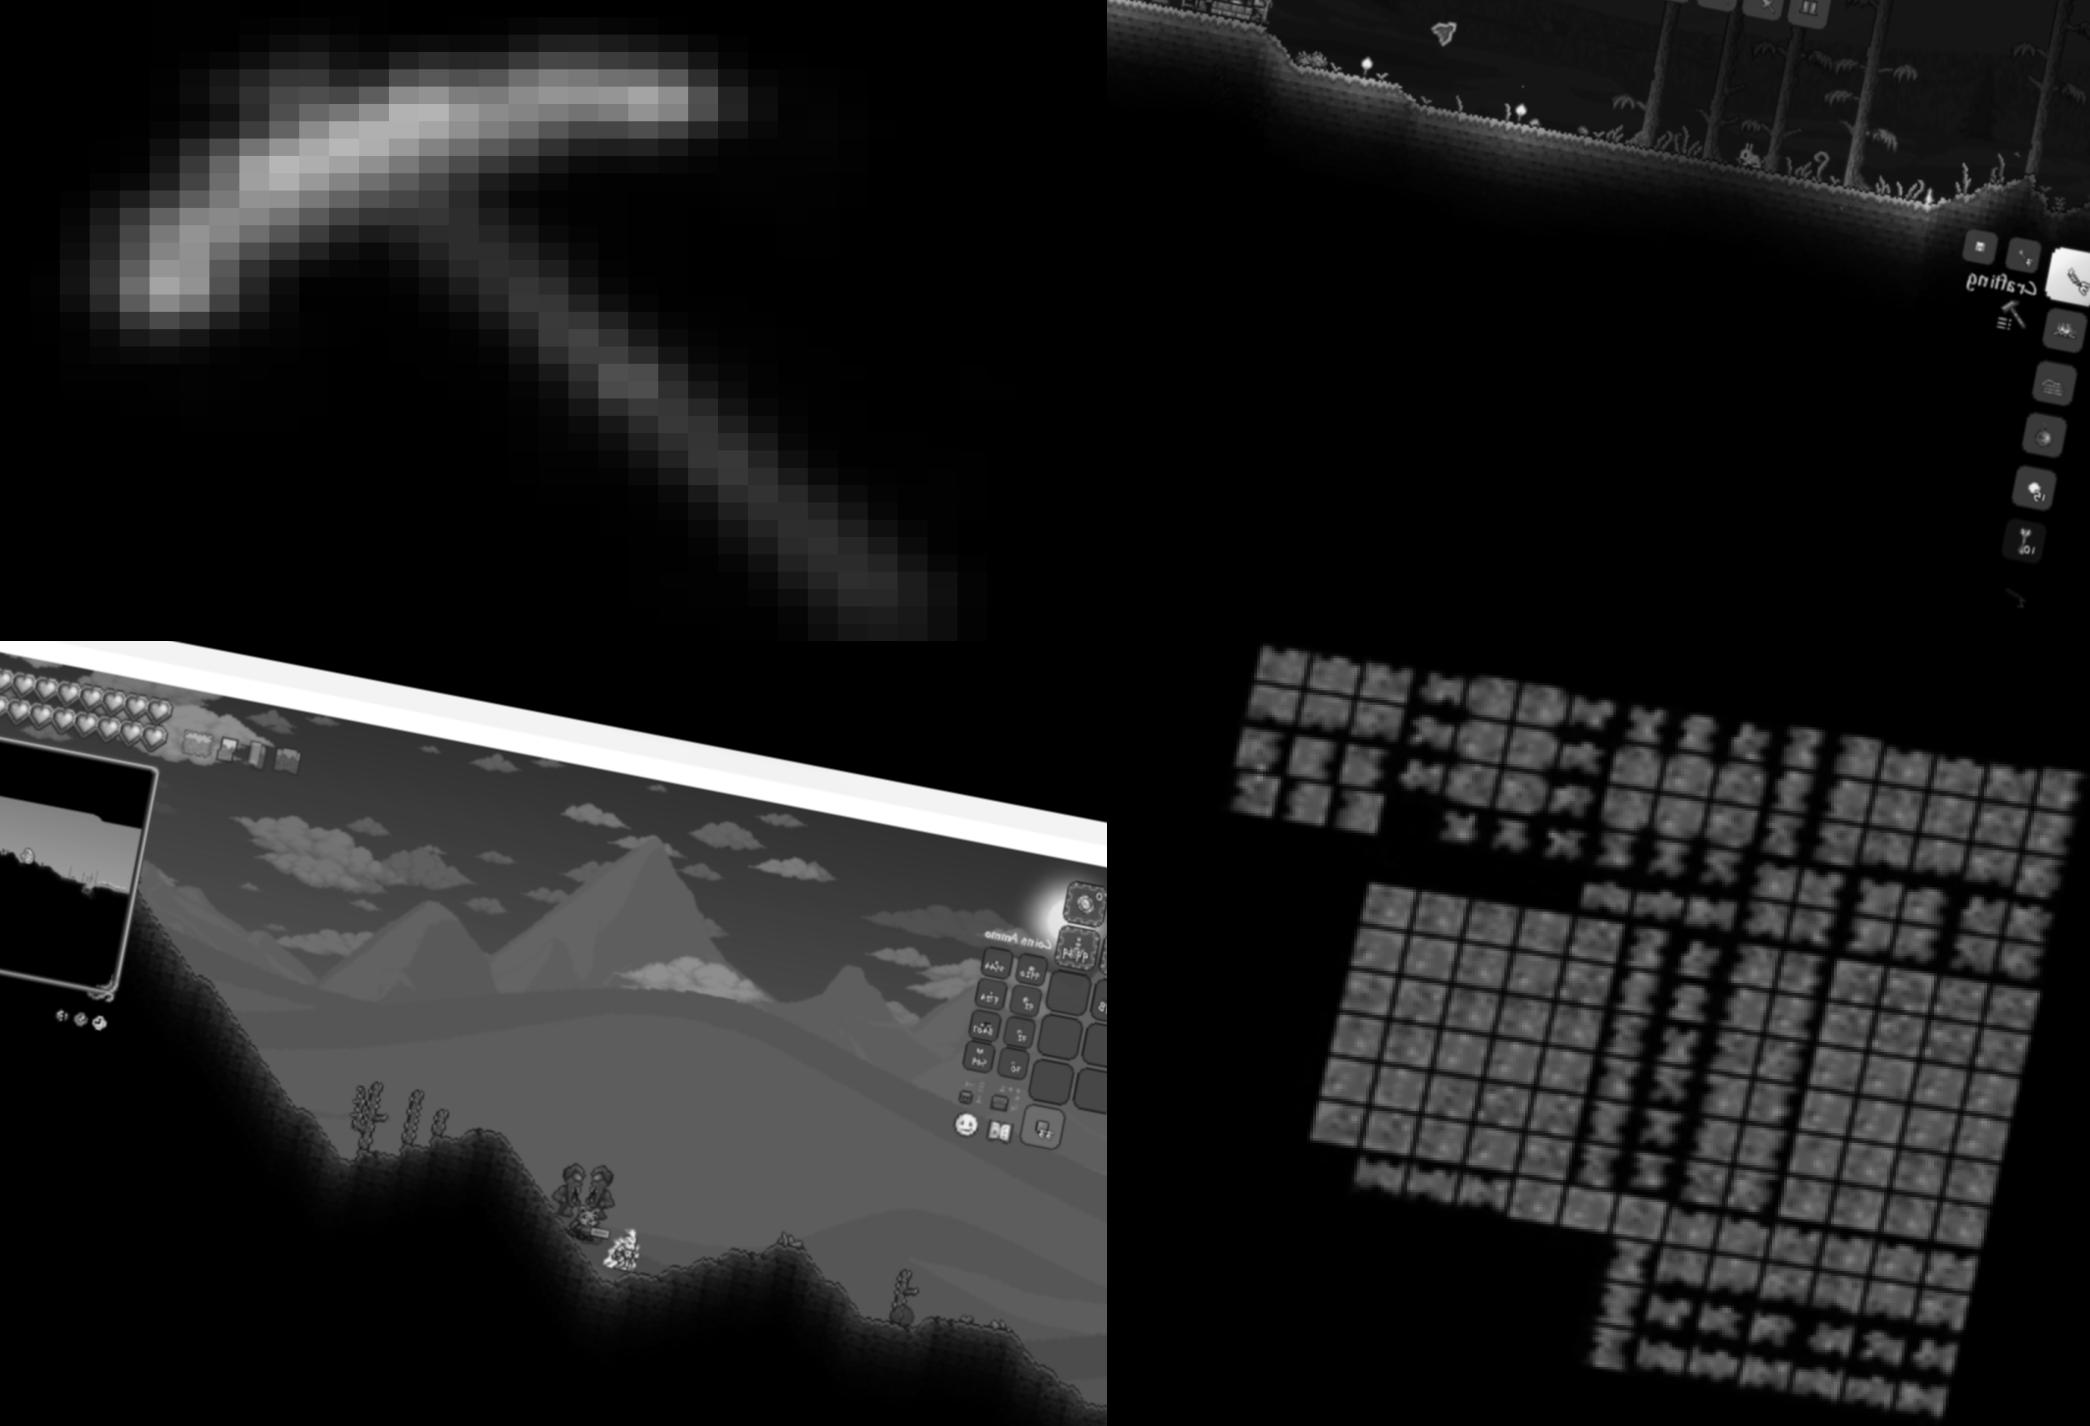ebony: (2028, 767, 2090, 816)
pickaxe: (0, 0, 1107, 642)
zombie: (546, 1154, 591, 1220)
